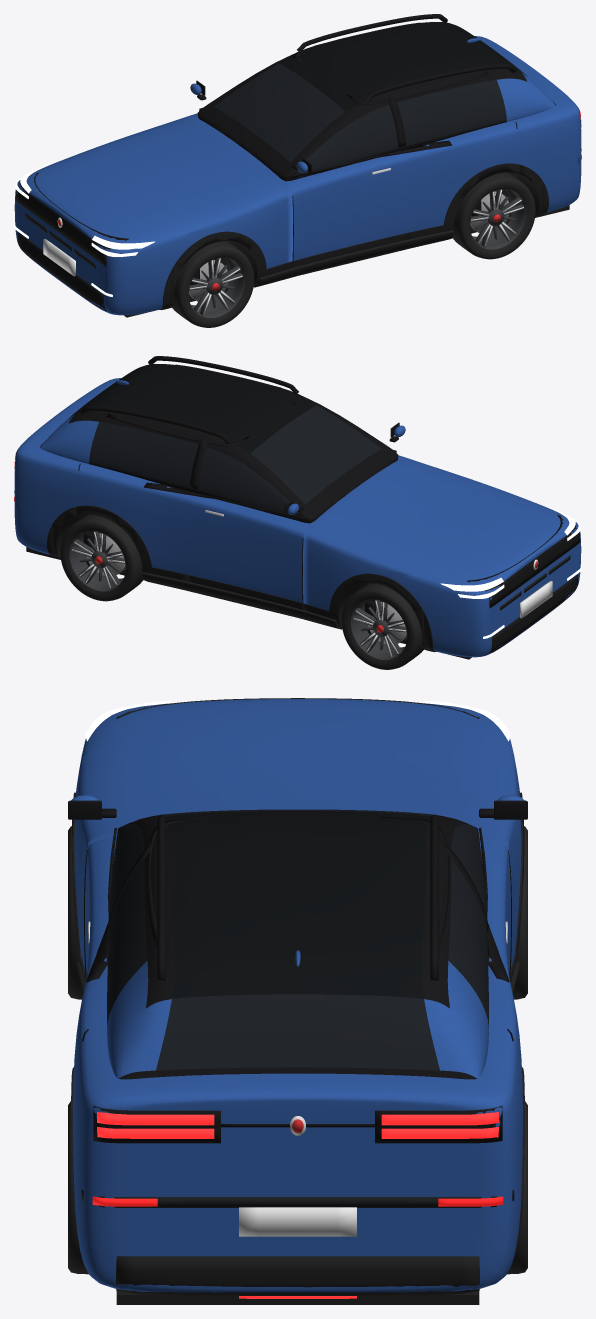
File: hero-suv.glb
The picture shows the model from 3 angles, top to bottom: view 1: azimuth 30°, elevation 25°; view 2: azimuth 150°, elevation 25°; view 3: azimuth 270°, elevation 25°; orthographic projection. The views are drawn at different scales.
Visible parts, largest first — view 1: hood_panel.003, side_windows_left_glass.003, roof_glass.003, door_front_left_panel.003, bumper_front_panel.003, door_rear_left_panel.002, windshield_glass.003, fender_front_left_panel.003, fender_rear_left_panel.003, wheel_rear_left_tire.003, wheel_front_left_tire.003, arch_clad_front_left (+21 smaller); view 2: hood_panel.003, side_windows_right_glass.003, roof_glass.003, door_front_right_panel.003, bumper_front_panel.003, door_rear_right_panel.002, windshield_glass.003, fender_front_right_panel.003, fender_rear_right_panel.003, wheel_rear_right_tire.003, wheel_front_right_tire.003, side_skirt_right.003 (+21 smaller); view 3: roof_glass.003, hood_panel.003, trunk_panel.003, rear_window_glass.003, bumper_rear_panel.003, diffuser.015, side_windows_left_glass.003, side_windows_right_glass.003, fender_rear_right_panel.003, fender_rear_left_panel.003, fender_front_left_panel.003, fender_front_right_panel.003 (+24 smaller).
Boxes of the visible parts, box(x1,y1,x2,y2) form: hood_panel.003: box(37, 118, 283, 237); side_windows_left_glass.003: box(236, 68, 555, 181); roof_glass.003: box(279, 22, 555, 121); door_front_left_panel.003: box(284, 153, 407, 260); bumper_front_panel.003: box(14, 160, 171, 313); door_rear_left_panel.002: box(404, 121, 519, 232); windshield_glass.003: box(214, 63, 344, 162); fender_front_left_panel.003: box(128, 182, 292, 269); fender_rear_left_panel.003: box(511, 102, 581, 181); wheel_rear_left_tire.003: box(453, 172, 535, 259); wheel_front_left_tire.003: box(172, 241, 254, 327); arch_clad_front_left: box(159, 231, 266, 310); hood_panel.003: box(312, 460, 558, 579); side_windows_right_glass.003: box(40, 410, 357, 523); roof_glass.003: box(40, 364, 316, 463); door_front_right_panel.003: box(188, 495, 311, 602); bumper_front_panel.003: box(424, 502, 581, 655); door_rear_right_panel.002: box(76, 463, 191, 574); windshield_glass.003: box(251, 405, 381, 504); fender_front_right_panel.003: box(303, 524, 467, 611); fender_rear_right_panel.003: box(14, 444, 84, 523); wheel_rear_right_tire.003: box(60, 514, 142, 601); wheel_front_right_tire.003: box(341, 583, 423, 669); side_skirt_right.003: box(142, 572, 338, 628); roof_glass.003: box(107, 811, 488, 1078); hood_panel.003: box(122, 699, 473, 825); trunk_panel.003: box(122, 1068, 473, 1219); rear_window_glass.003: box(156, 994, 439, 1070); bumper_rear_panel.003: box(74, 1179, 521, 1292); diffuser.015: box(116, 1256, 479, 1295); side_windows_left_glass.003: box(107, 815, 297, 1079); side_windows_right_glass.003: box(298, 815, 488, 1079); fender_rear_right_panel.003: box(473, 1035, 522, 1219); fender_rear_left_panel.003: box(73, 1035, 122, 1219); fender_front_left_panel.003: box(74, 718, 122, 969); fender_front_right_panel.003: box(473, 718, 521, 969).
Size of the model in its own units: 4.5 by 1.61 by 1.89.
